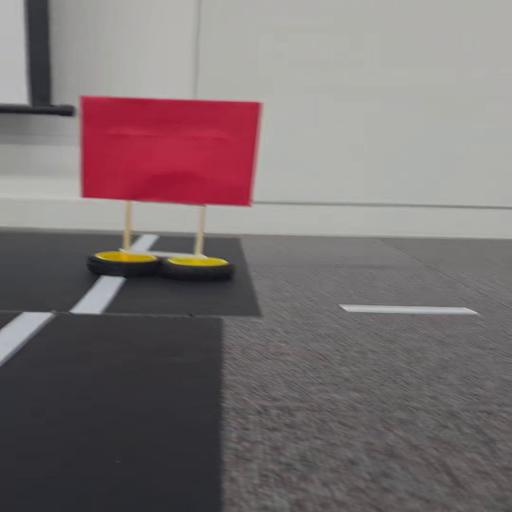Sign_A: (71, 87, 264, 292)
